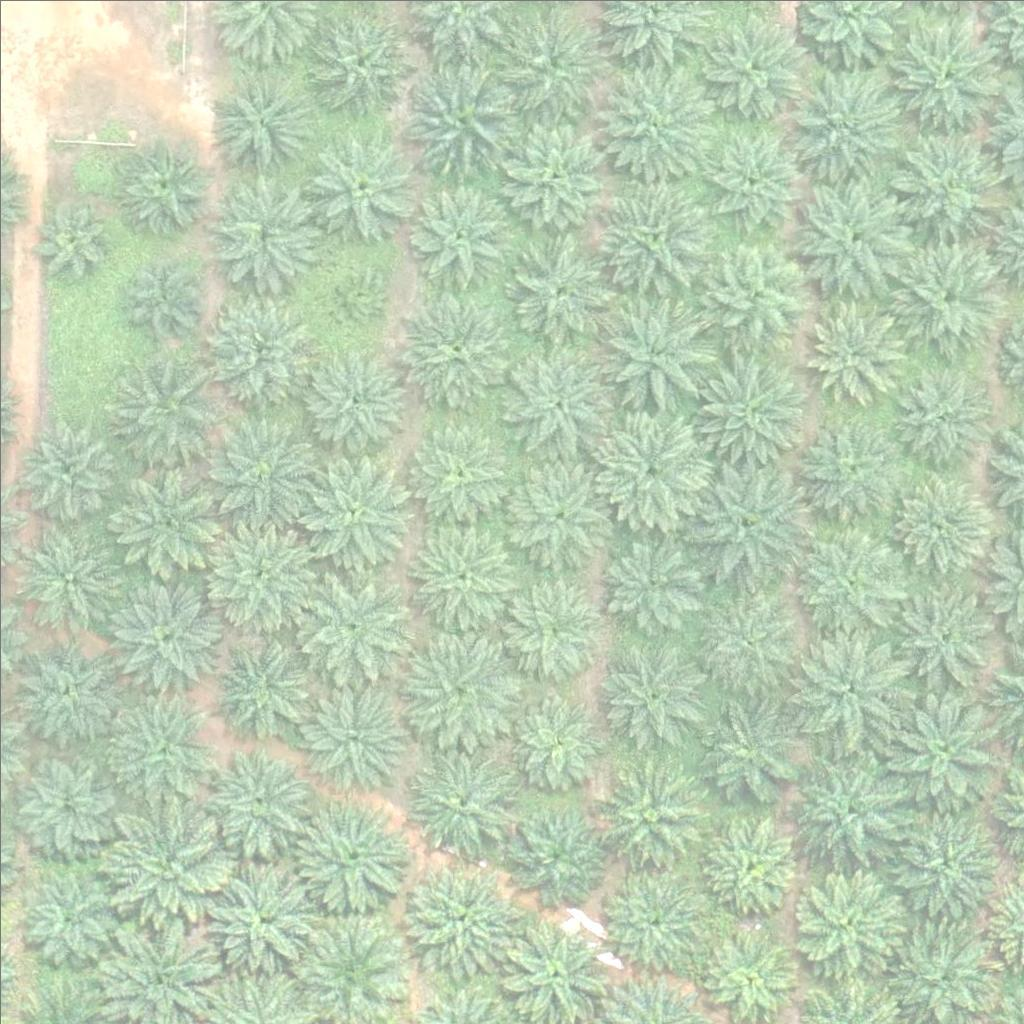Kelapa_Sawit: (790, 866, 903, 980), (201, 295, 314, 409), (295, 454, 408, 568), (689, 694, 802, 808), (700, 238, 813, 352), (595, 180, 708, 294), (595, 62, 708, 176), (496, 6, 609, 120), (402, 861, 515, 974), (292, 802, 405, 915), (110, 806, 223, 919), (13, 526, 126, 639), (197, 515, 310, 628), (203, 420, 316, 533), (296, 680, 409, 793), (292, 564, 405, 677), (405, 745, 518, 858), (400, 631, 513, 744), (593, 412, 706, 525), (596, 300, 709, 413), (692, 582, 805, 695), (687, 463, 800, 576), (694, 351, 807, 464), (792, 751, 905, 864), (790, 629, 903, 742), (890, 18, 1003, 131), (303, 129, 416, 242), (306, 7, 419, 120), (207, 172, 320, 285), (203, 68, 316, 181), (596, 759, 708, 873), (400, 516, 512, 630), (597, 635, 709, 749), (495, 116, 607, 230), (883, 811, 995, 924), (598, 862, 710, 975), (202, 868, 314, 981), (105, 689, 217, 802), (108, 578, 220, 691), (103, 466, 215, 579), (104, 359, 216, 472), (198, 744, 310, 857), (398, 291, 510, 404), (499, 454, 611, 567), (495, 344, 607, 457), (790, 523, 902, 636), (792, 410, 904, 523), (885, 692, 997, 805), (888, 581, 1000, 694), (895, 240, 1007, 353), (892, 124, 1004, 237), (793, 180, 905, 293), (787, 68, 899, 181), (694, 13, 806, 126), (501, 235, 613, 348), (403, 59, 515, 172), (507, 806, 607, 907), (17, 868, 117, 969), (15, 749, 115, 850), (15, 645, 115, 746), (14, 418, 114, 519), (205, 639, 305, 740), (801, 303, 901, 404), (893, 471, 993, 572), (888, 365, 988, 466), (405, 182, 505, 283), (697, 815, 797, 915), (300, 351, 400, 451), (407, 420, 507, 520), (506, 688, 606, 788), (501, 574, 601, 674), (598, 530, 698, 630), (702, 125, 802, 225), (117, 140, 205, 229), (121, 253, 196, 329), (35, 203, 110, 278), (317, 263, 379, 326)
